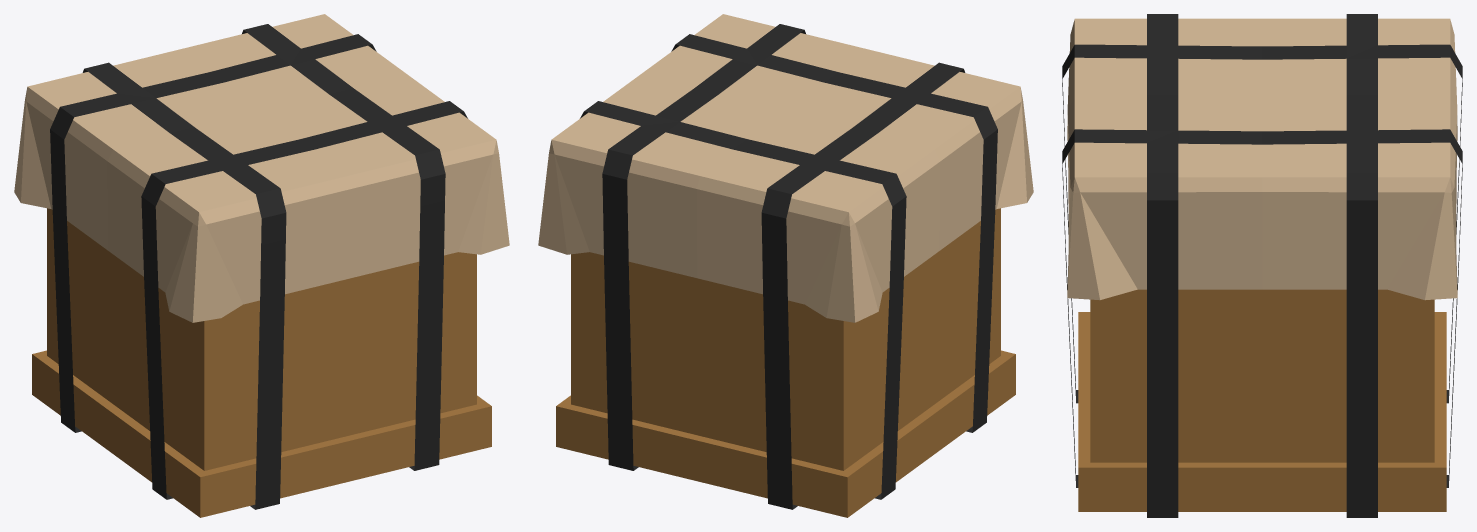
The model's file is crate-supply.glb.
3 views of the same model, side by side, from view 1: azimuth 30°, elevation 25°; view 2: azimuth 150°, elevation 25°; view 3: azimuth 270°, elevation 25° (orthographic). The views are drawn at different scales.
Parts seen in each view (by area): view 1: crate-supply; view 2: crate-supply; view 3: crate-supply.
Boxes of the visible parts, left/top/right/bottom form: crate-supply: left=14, top=14, right=509, bottom=517; crate-supply: left=538, top=14, right=1033, bottom=517; crate-supply: left=1062, top=14, right=1462, bottom=517.
Size of the model in its own units: 1.72 by 1.55 by 1.63.
1 material, 1 textured.
